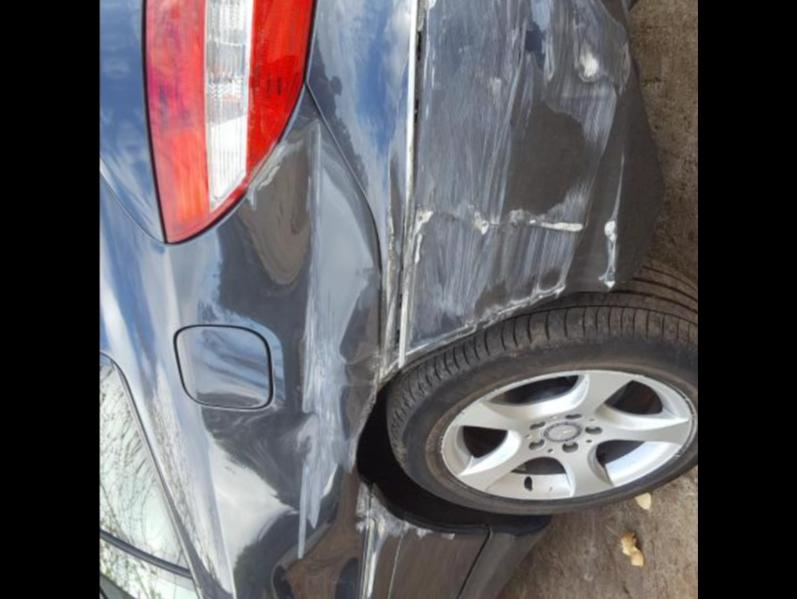Dent: (222, 105, 381, 599)
Scratch: (375, 0, 636, 391), (354, 482, 457, 599)
